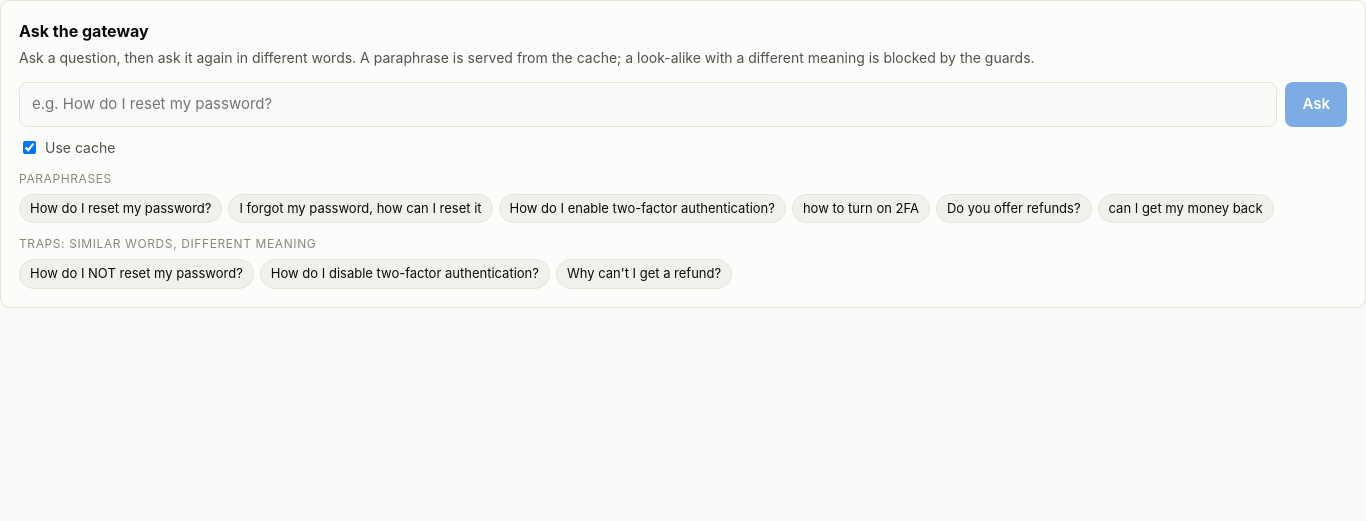
Test: QueryPlayground › sends the question and shows a cache hit
This screenshot has width=1366, height=521.
Type "forgot password help" into the field named "Question" at (648, 104), box [19, 82, 1277, 126]
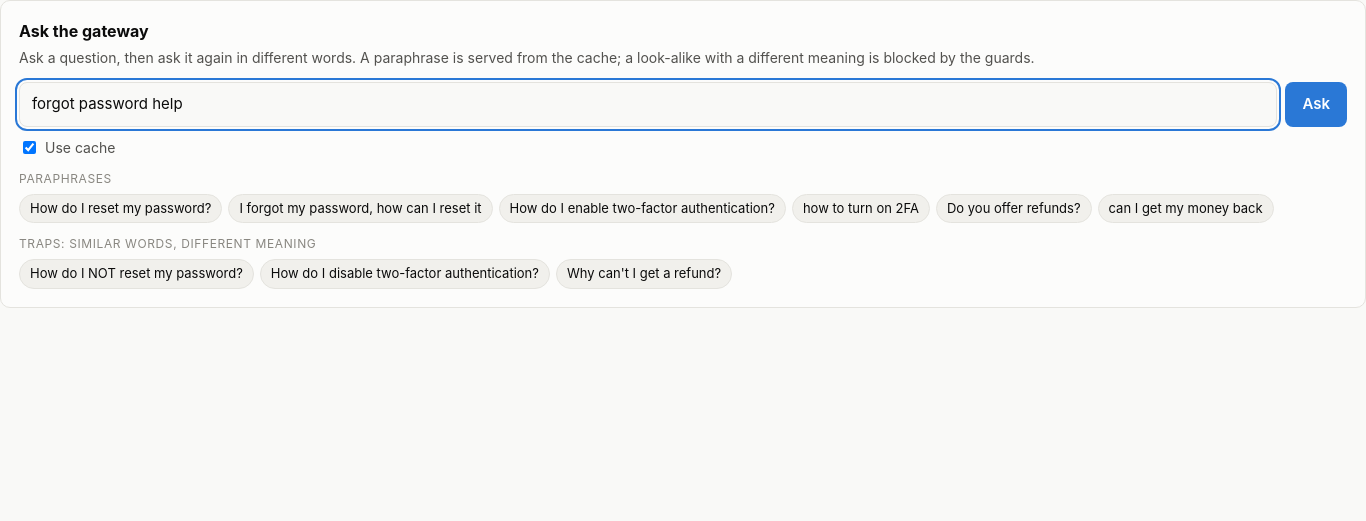
Click the button "Ask" at (1316, 104), box [1285, 82, 1347, 126]
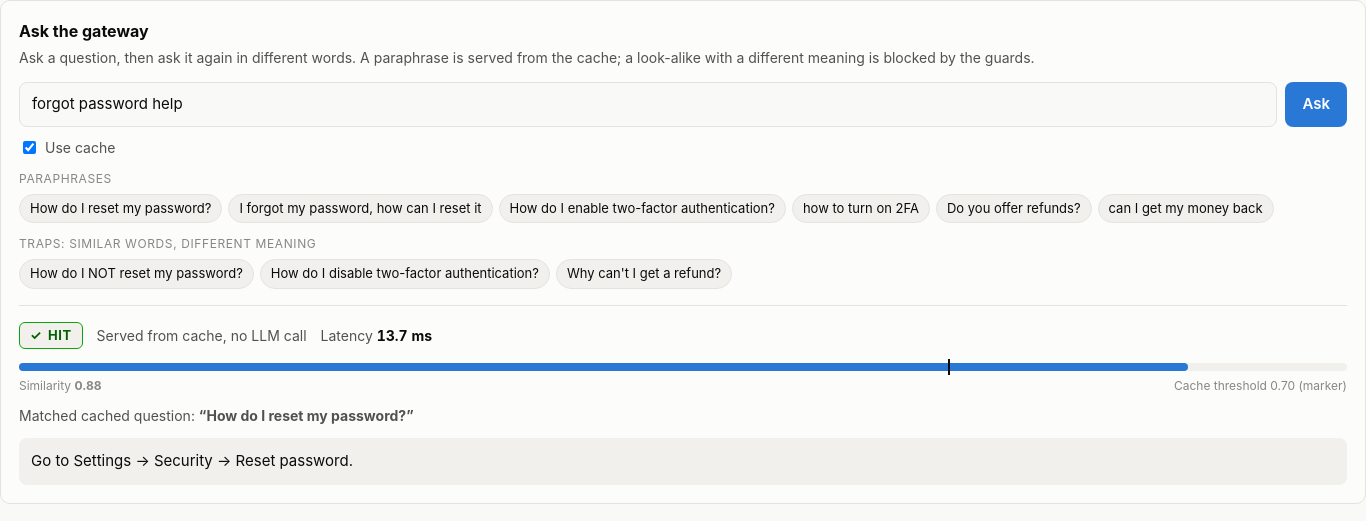
Check: the text "HIT" is shown, box [48, 326, 72, 342]
Check: the text "“How do I reset my password?”" is shown, box [199, 407, 414, 424]
Check: the text "0.88" is shown, box [74, 378, 102, 393]
